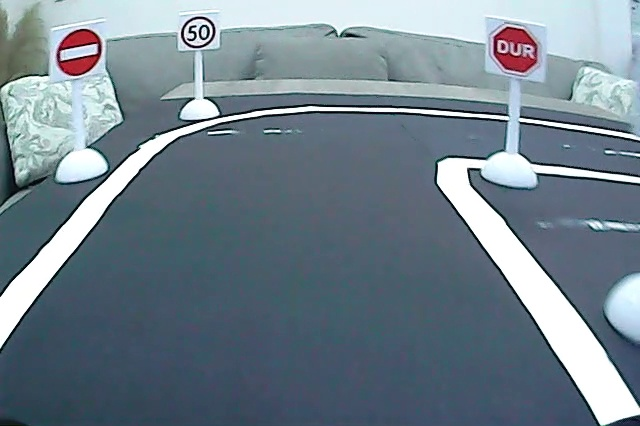do not enter: (54, 27, 104, 78)
speed limit 50: (180, 14, 218, 50)
stop sign: (487, 22, 541, 77)
